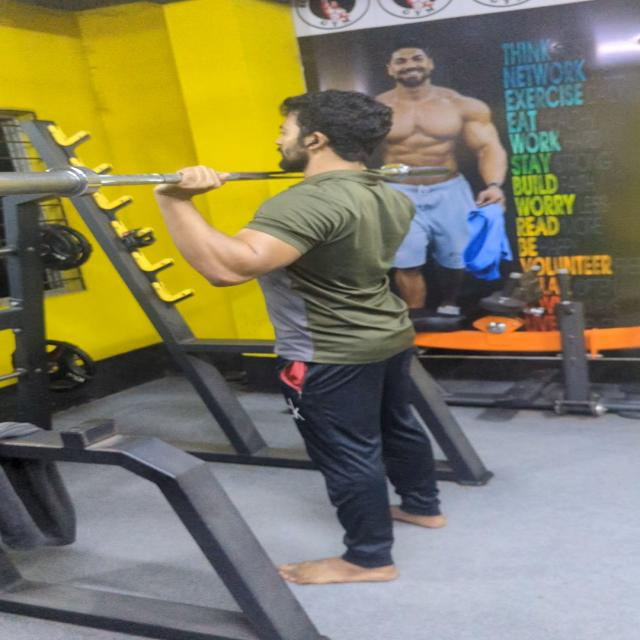Normal_OverheadPress: (63, 75, 595, 601)
